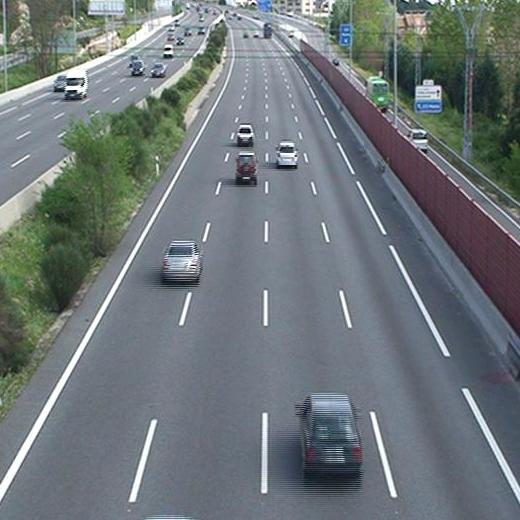car: (294, 394, 365, 477), (161, 240, 202, 283), (235, 152, 257, 182), (276, 142, 299, 166), (236, 124, 255, 146)
